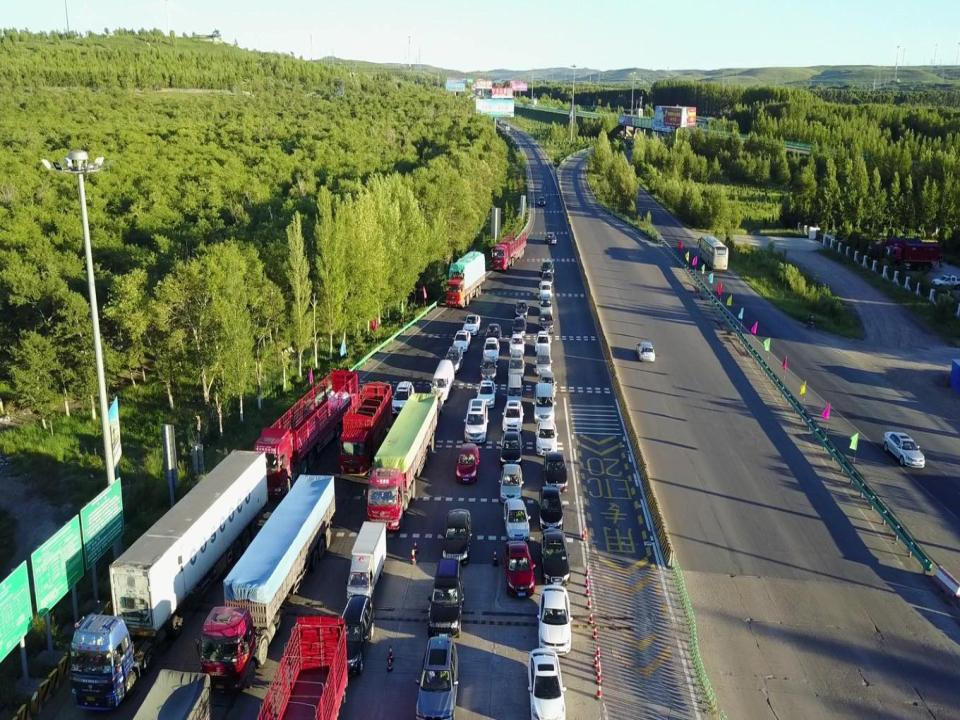bus: (698, 235, 728, 270)
car: (415, 635, 458, 720), (332, 594, 374, 676), (426, 558, 464, 638), (527, 647, 566, 720), (536, 585, 573, 655), (502, 539, 536, 597), (540, 528, 570, 587), (441, 508, 472, 565), (882, 431, 924, 469), (502, 497, 530, 544), (537, 486, 565, 532), (463, 398, 488, 442), (497, 464, 524, 503), (542, 452, 568, 492), (532, 382, 556, 424), (455, 442, 479, 482), (498, 430, 523, 468), (534, 419, 558, 456), (501, 399, 524, 436), (390, 380, 414, 415), (443, 345, 463, 373), (476, 380, 496, 408), (538, 371, 557, 397), (479, 356, 498, 380), (462, 314, 480, 337), (481, 337, 499, 360), (534, 330, 551, 354), (453, 329, 470, 351), (635, 342, 655, 360), (538, 312, 555, 333), (484, 323, 501, 344), (510, 316, 526, 338), (508, 334, 524, 356), (538, 293, 552, 315), (539, 258, 554, 278), (514, 299, 529, 319), (538, 280, 551, 298), (540, 271, 552, 287), (544, 230, 556, 244), (537, 197, 545, 205)
truck: (83, 449, 268, 709), (194, 474, 334, 694), (251, 368, 358, 500), (362, 392, 437, 532), (255, 615, 348, 720), (339, 380, 392, 474), (443, 251, 485, 308), (884, 241, 940, 272), (870, 236, 920, 267), (491, 230, 527, 272), (931, 272, 960, 290)
van: (346, 520, 386, 604), (429, 359, 454, 401), (505, 373, 523, 408), (508, 348, 525, 384), (535, 346, 553, 378)
